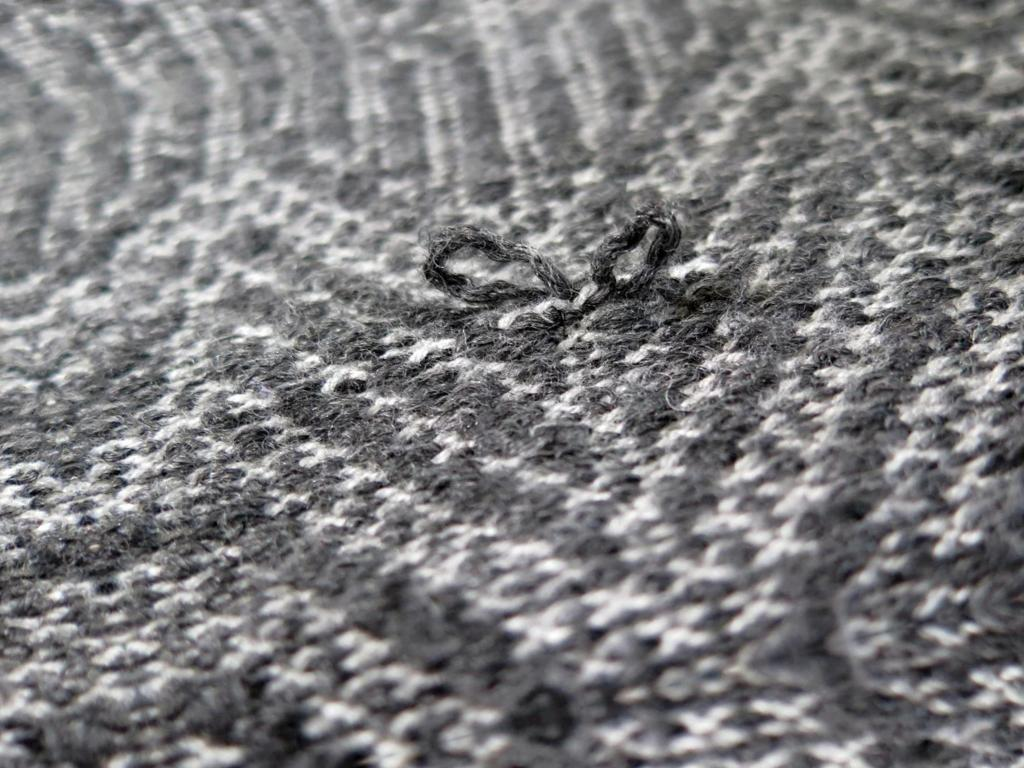snag: (420, 210, 576, 330), (588, 203, 703, 315)
